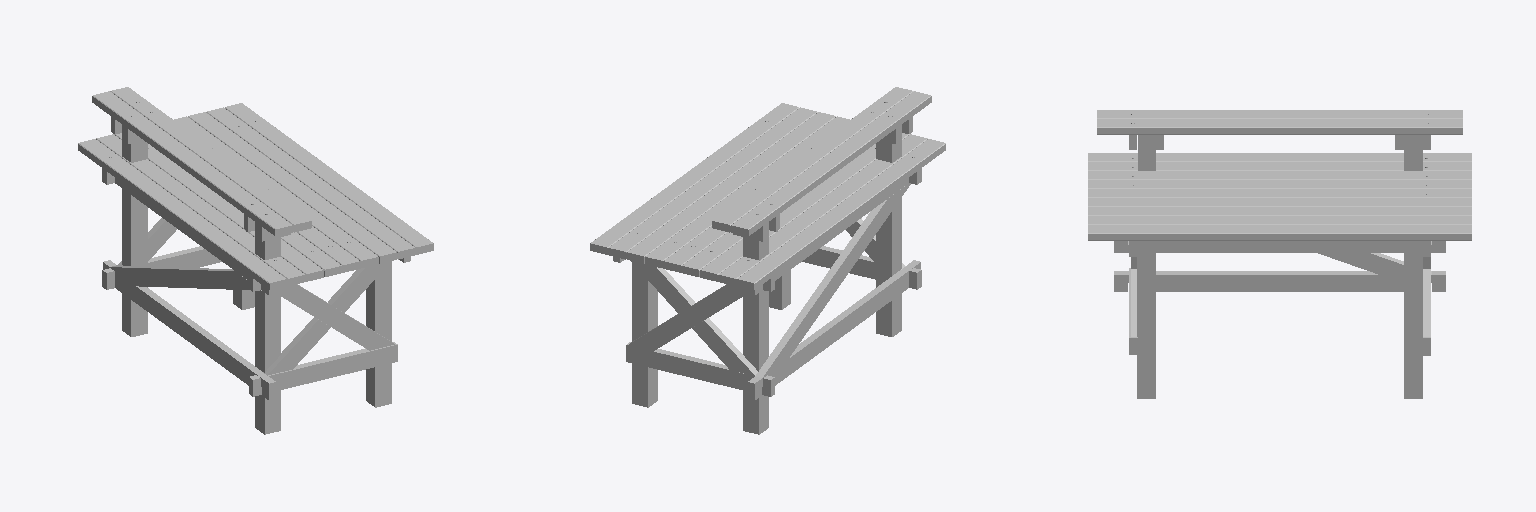
Rendered from Work_Bench.obj.
The picture shows the model from 3 angles: view 1: azimuth 30°, elevation 25°; view 2: azimuth 150°, elevation 25°; view 3: azimuth 270°, elevation 25°; orthographic projection.
Visible parts, largest first — view 1: Work_Bench; view 2: Work_Bench; view 3: Work_Bench.
Boxes of the visible parts, box(x1,y1,x2,y2) form: Work_Bench: box(78, 87, 433, 434); Work_Bench: box(590, 87, 945, 434); Work_Bench: box(1088, 110, 1471, 398).
Size of the model in its own units: 90.8 by 117 by 183.